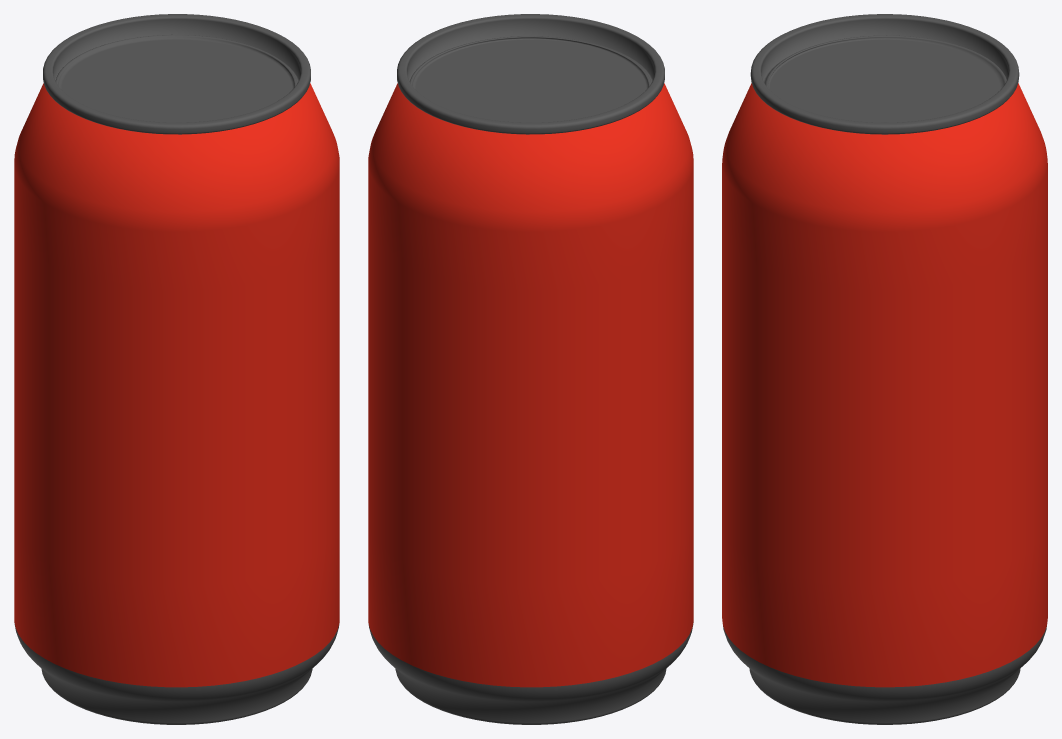
File: SodaCanPickup.fbx
The picture shows the model from 3 angles, left to right: view 1: azimuth 30°, elevation 25°; view 2: azimuth 150°, elevation 25°; view 3: azimuth 270°, elevation 25°; orthographic projection.
Parts seen in each view (by area): view 1: Cylinder; view 2: Cylinder; view 3: Cylinder.
Part boxes in pixels (x1,y1,x2,y2): Cylinder: (14, 14, 339, 724); Cylinder: (368, 14, 693, 724); Cylinder: (722, 14, 1047, 724).
Size of the model in its own units: 58.13 by 118 by 58.13.
